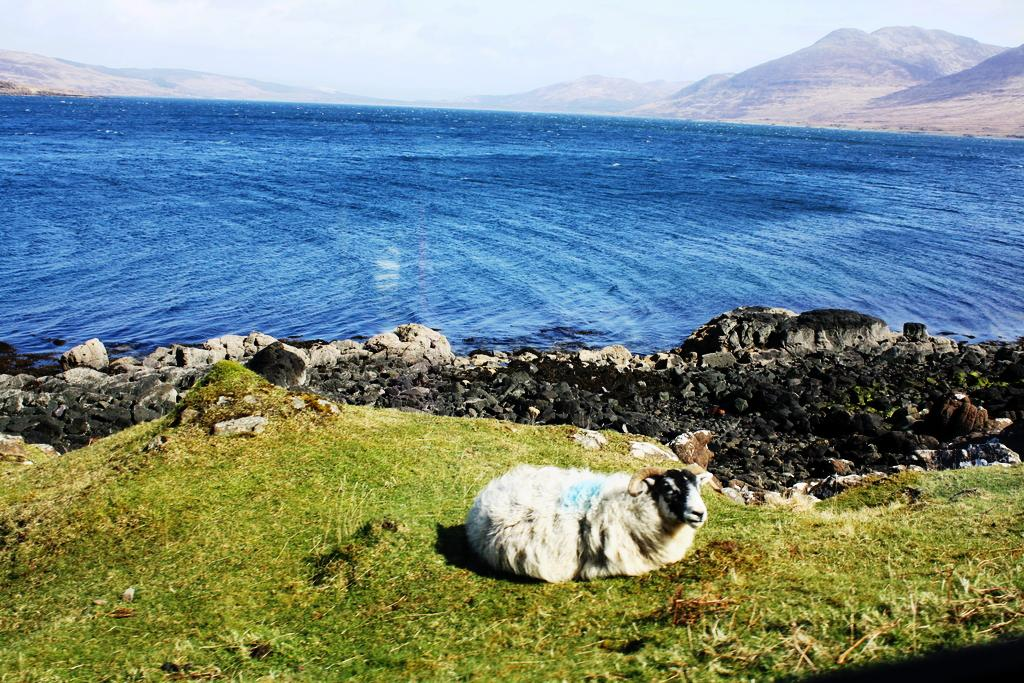Sheep: (462, 468, 710, 582)
